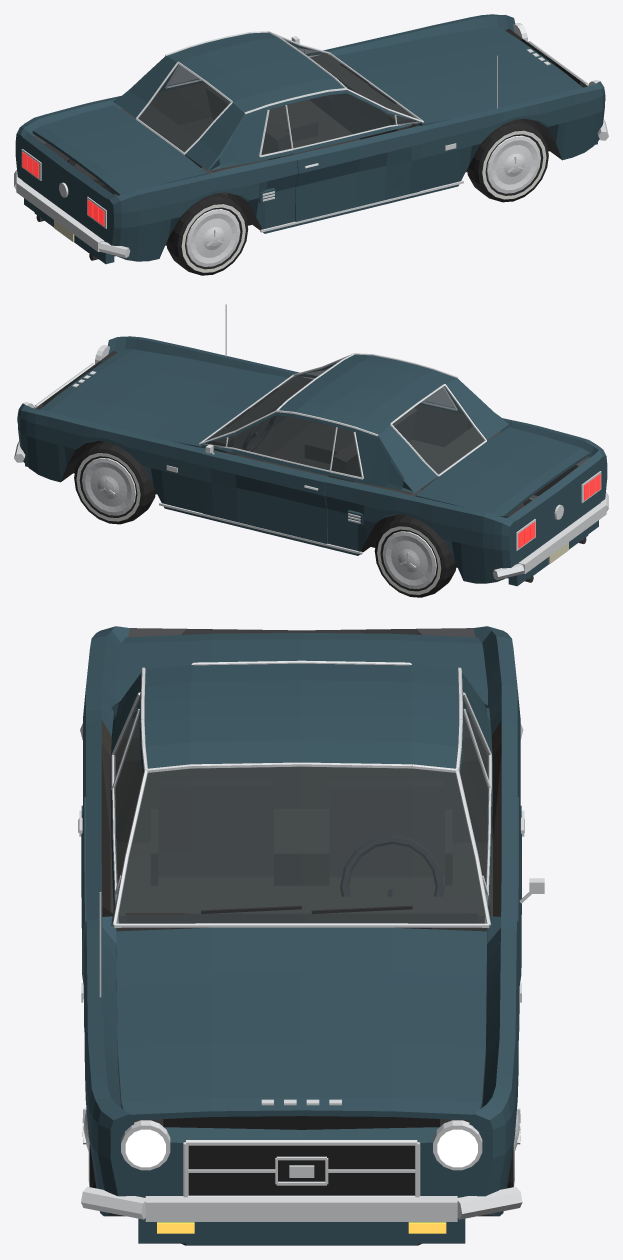
File: 1965-ford-mustang-coupe.glb
3 views of the same model, one above another, from view 1: azimuth 30°, elevation 25°; view 2: azimuth 150°, elevation 25°; view 3: azimuth 270°, elevation 25° (orthographic). The views are drawn at different scales.
Visible parts, largest first — view 1: Paint_Body, Paint_Hood, Paint_Cabin, Paint_Trunk, Paint_Door_R, Glass_Windshield_Backlight, Body_Interior, Glass_Door_R, Wheel_FR_Cover, Wheel_RR_Cover, Dash, Wheel_FR_Tire (+17 smaller); view 2: Paint_Body, Paint_Hood, Paint_Cabin, Paint_Trunk, Paint_Door_L, Glass_Windshield_Backlight, Body_Interior, Glass_Door_L, Wheel_FL_Cover, Wheel_RL_Cover, Wheel_FL_Tire, Wheel_RL_Tire (+17 smaller); view 3: Paint_Hood, Glass_Windshield_Backlight, Paint_Body, Paint_Cabin, Body_Interior, Paint_Trunk, SeatBack_Front_R, Grille, SeatBack_Front_L, Dash, Chrome_Bumper_Front, Paint_Valance_Front (+22 smaller).
Boxes of the visible parts, x1,y1,x2,y2 form: Paint_Body: [15, 14, 604, 261]; Paint_Hood: [331, 27, 582, 125]; Paint_Cabin: [113, 32, 419, 171]; Paint_Trunk: [32, 105, 207, 195]; Paint_Door_R: [295, 131, 422, 221]; Glass_Windshield_Backlight: [138, 38, 418, 151]; Body_Interior: [139, 54, 416, 172]; Glass_Door_R: [287, 93, 422, 148]; Wheel_FR_Cover: [486, 135, 540, 193]; Wheel_RR_Cover: [186, 209, 240, 266]; Dash: [311, 53, 414, 132]; Wheel_FR_Tire: [467, 119, 548, 202]; Paint_Body: [18, 336, 607, 583]; Paint_Hood: [40, 349, 291, 446]; Paint_Cabin: [200, 354, 509, 493]; Paint_Trunk: [415, 427, 590, 516]; Paint_Door_L: [200, 453, 327, 543]; Glass_Windshield_Backlight: [204, 360, 484, 474]; Body_Interior: [211, 376, 483, 494]; Glass_Door_L: [199, 415, 335, 470]; Wheel_FL_Cover: [82, 458, 136, 515]; Wheel_RL_Cover: [382, 531, 436, 588]; Wheel_FL_Tire: [74, 441, 155, 524]; Wheel_RL_Tire: [374, 515, 456, 597]; Paint_Hood: [116, 927, 486, 1120]; Glass_Windshield_Backlight: [117, 766, 486, 923]; Paint_Body: [83, 626, 520, 1245]; Paint_Cabin: [110, 663, 492, 925]; Body_Interior: [101, 719, 501, 916]; Paint_Trunk: [115, 633, 487, 717]; SeatBack_Front_R: [158, 780, 273, 877]; Grille: [188, 1145, 414, 1195]; SeatBack_Front_L: [329, 780, 444, 877]; Dash: [125, 896, 477, 929]; Chrome_Bumper_Front: [145, 1196, 457, 1221]; Paint_Valance_Front: [138, 1218, 465, 1243].
Size of the model in its own units: 4.68 by 1.3 by 1.85.
